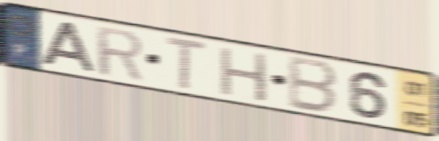6: (347, 69, 390, 121)
A: (38, 19, 99, 75)
B: (285, 53, 340, 116)
H: (218, 44, 270, 104)
R: (93, 24, 147, 84)
T: (164, 33, 210, 93)
